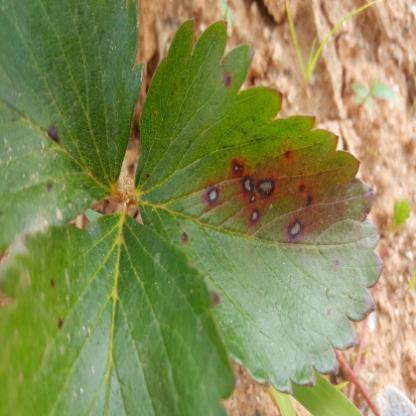Strawberry_Leaf_Spot: (132, 19, 386, 396), (0, 212, 238, 415), (0, 0, 144, 269)
